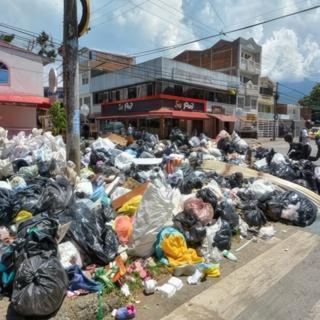Garbage: (7, 253, 68, 318), (128, 180, 178, 253), (64, 218, 117, 265), (4, 215, 60, 259), (17, 179, 72, 212), (171, 208, 205, 247), (286, 189, 316, 226), (182, 196, 213, 223), (259, 189, 284, 218), (241, 203, 266, 226)
